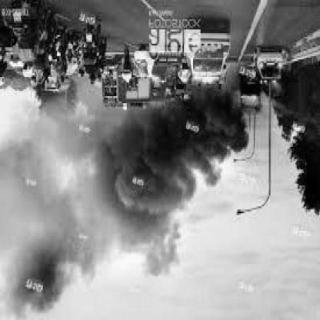Fire: (214, 66, 280, 127)
Smoke: (9, 105, 241, 302)
